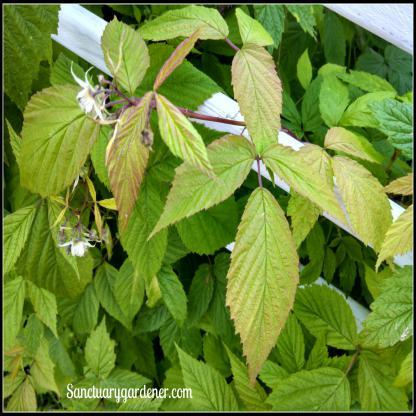Raspberry leaf: (224, 185, 298, 387), (146, 129, 262, 234), (262, 142, 352, 226), (225, 38, 284, 166)
